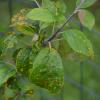Apple rust leaf: (29, 45, 67, 99), (61, 28, 96, 62), (17, 44, 39, 84), (9, 8, 41, 33), (0, 31, 26, 54), (41, 0, 68, 21)
